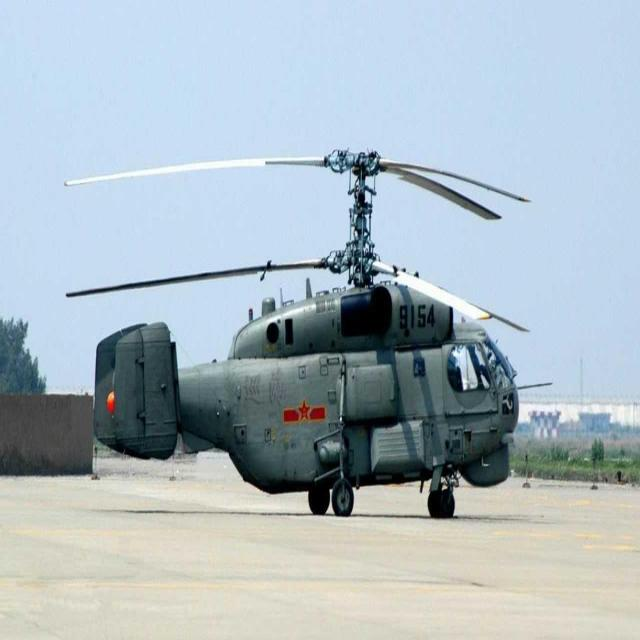MIL_HELO: (55, 146, 640, 550)
